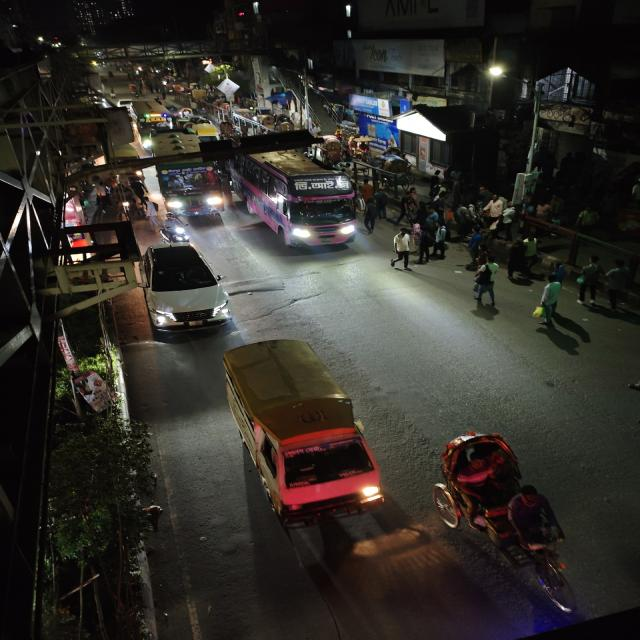bus: (231, 149, 361, 253), (155, 158, 227, 218), (129, 108, 179, 149)
car: (136, 242, 236, 338)
human_hauler: (212, 335, 390, 538)
motorcycle: (158, 212, 193, 244)
pedestrian: (533, 275, 569, 327), (469, 260, 504, 306), (603, 259, 632, 313), (575, 256, 604, 306), (504, 238, 536, 283), (362, 190, 390, 233), (389, 229, 416, 271), (396, 188, 423, 226), (432, 221, 454, 259), (462, 225, 485, 257), (416, 228, 433, 264)
rickshaw: (422, 424, 588, 608)
